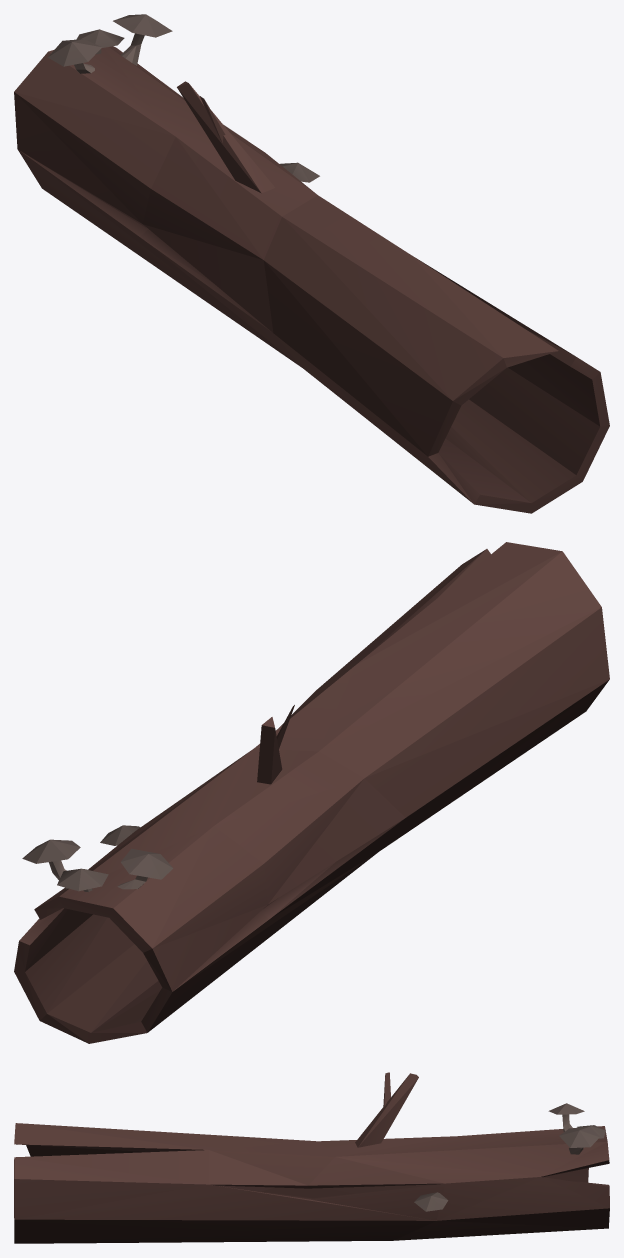
File: log.glb
3 views of the same model, one above another, from view 1: azimuth 30°, elevation 25°; view 2: azimuth 150°, elevation 25°; view 3: azimuth 270°, elevation 25° (orthographic). The views are drawn at different scales.
Parts seen in each view (by area): view 1: log; view 2: log; view 3: log.
Boxes of the visible parts, x1,y1,x2,y2 form: log: [14, 14, 609, 513]; log: [14, 542, 609, 1043]; log: [14, 1072, 609, 1243].
Bounding box in the file's own units: 0.5095 × 0.5999 × 2.14.
